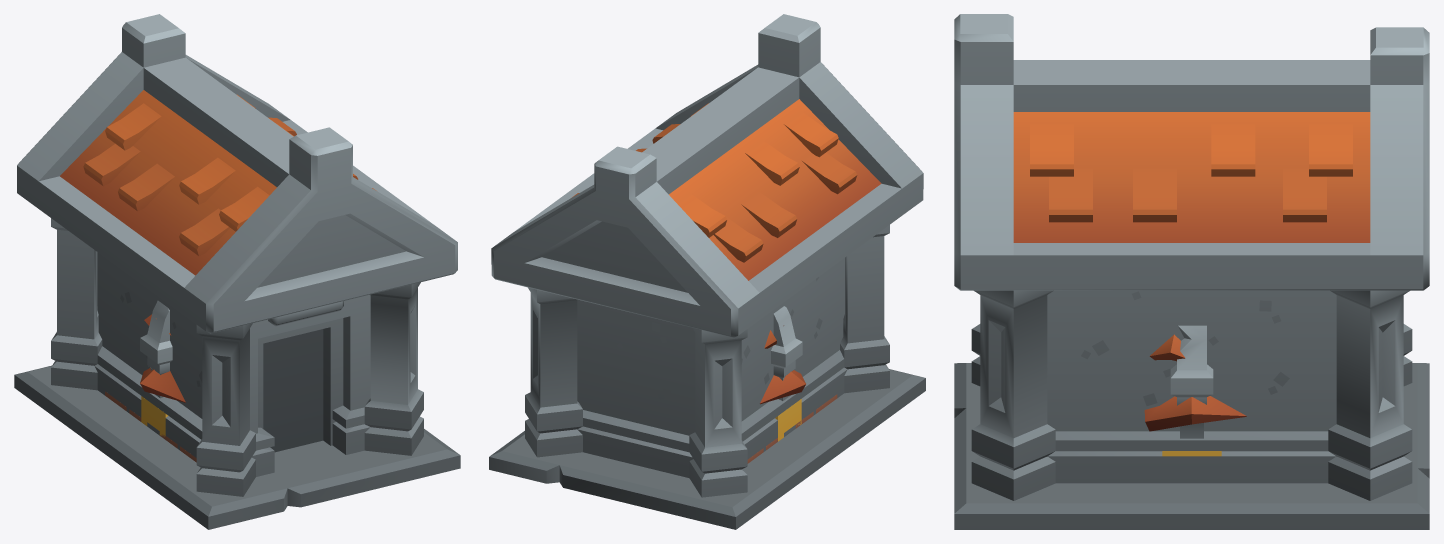
File: props.glb
The picture shows the model from 3 angles, left to right: view 1: azimuth 30°, elevation 25°; view 2: azimuth 150°, elevation 25°; view 3: azimuth 270°, elevation 25°; orthographic projection. The views are drawn at different scales.
Parts seen in each view (by area): view 1: crypt, arch, tree_pine_orange_large, Primitive_Beam; view 2: crypt, arch, tree_pine_orange_large, Primitive_Beam; view 3: crypt, arch, tree_pine_orange_large.
Boxes of the visible parts, x1,y1,x2,y2 form: crypt: (14,14,460,529); arch: (140,300,172,435); tree_pine_orange_large: (140,314,185,402); Primitive_Beam: (141,396,168,436); crypt: (489,14,925,529); arch: (771,306,802,436); tree_pine_orange_large: (760,325,805,404); Primitive_Beam: (775,399,801,441); crypt: (954,14,1429,529); arch: (1170,325,1213,438); tree_pine_orange_large: (1144,334,1246,431).
Size of the model in its own units: 6 by 9 by 8.
Materials: 6 (6 with a texture image).
